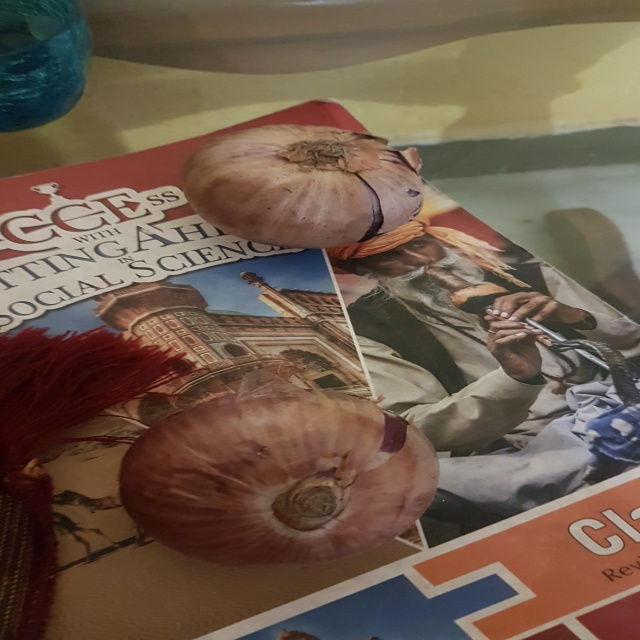onion: (117, 388, 454, 570), (177, 118, 435, 246)
